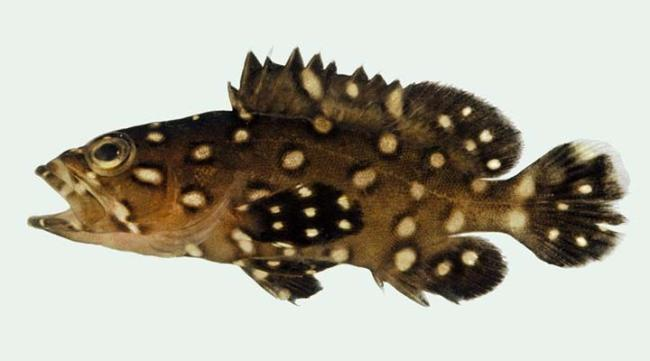fish: (27, 41, 632, 308)
